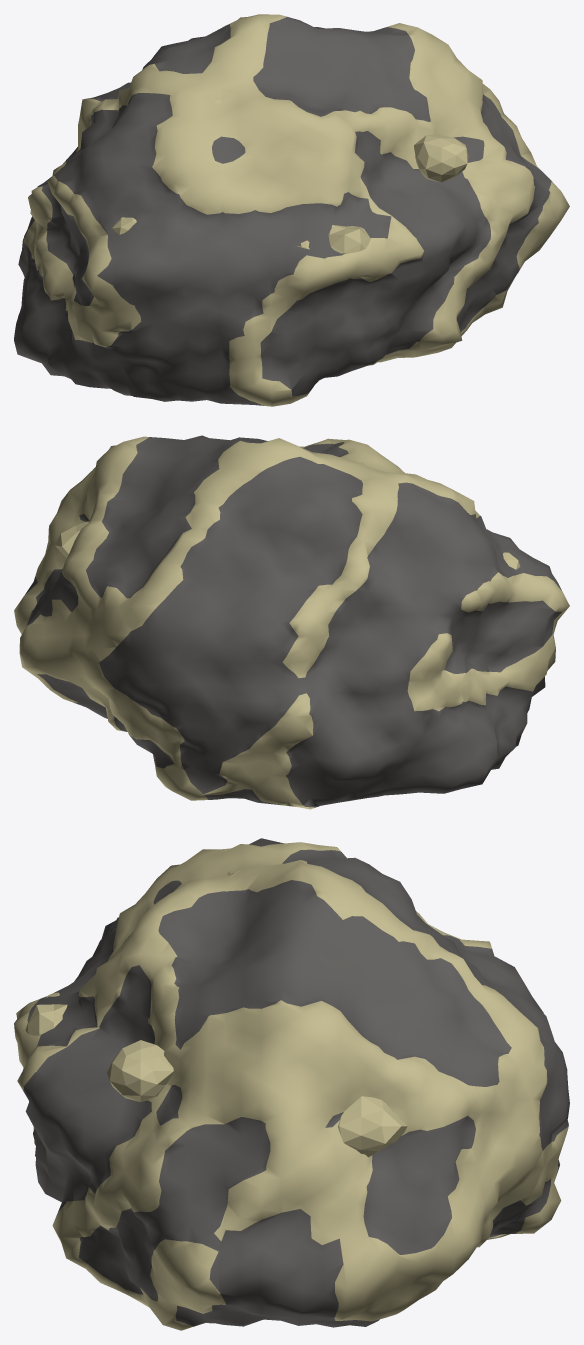
The model's file is pentlandite_deep.glb.
The picture shows the model from 3 angles, top to bottom: view 1: azimuth 30°, elevation 25°; view 2: azimuth 150°, elevation 25°; view 3: azimuth 270°, elevation 25°; orthographic projection. The views are drawn at different scales.
Visible parts, largest first — view 1: pentlandite_deep; view 2: pentlandite_deep; view 3: pentlandite_deep.
Part boxes in pixels (box(x1,y1,x2,y2)): pentlandite_deep: box(14, 14, 569, 406); pentlandite_deep: box(14, 435, 569, 809); pentlandite_deep: box(14, 838, 569, 1330).
Size of the model in its own units: 2.47 by 1.38 by 1.97.
